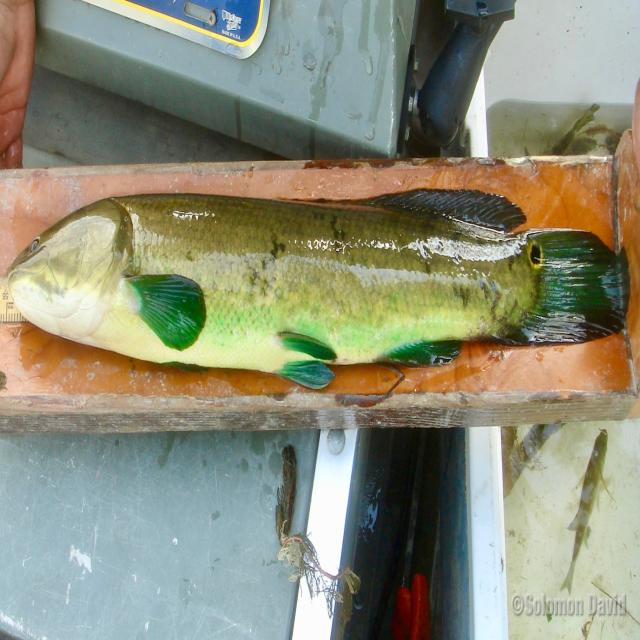Bowfin: (8, 190, 629, 391)
